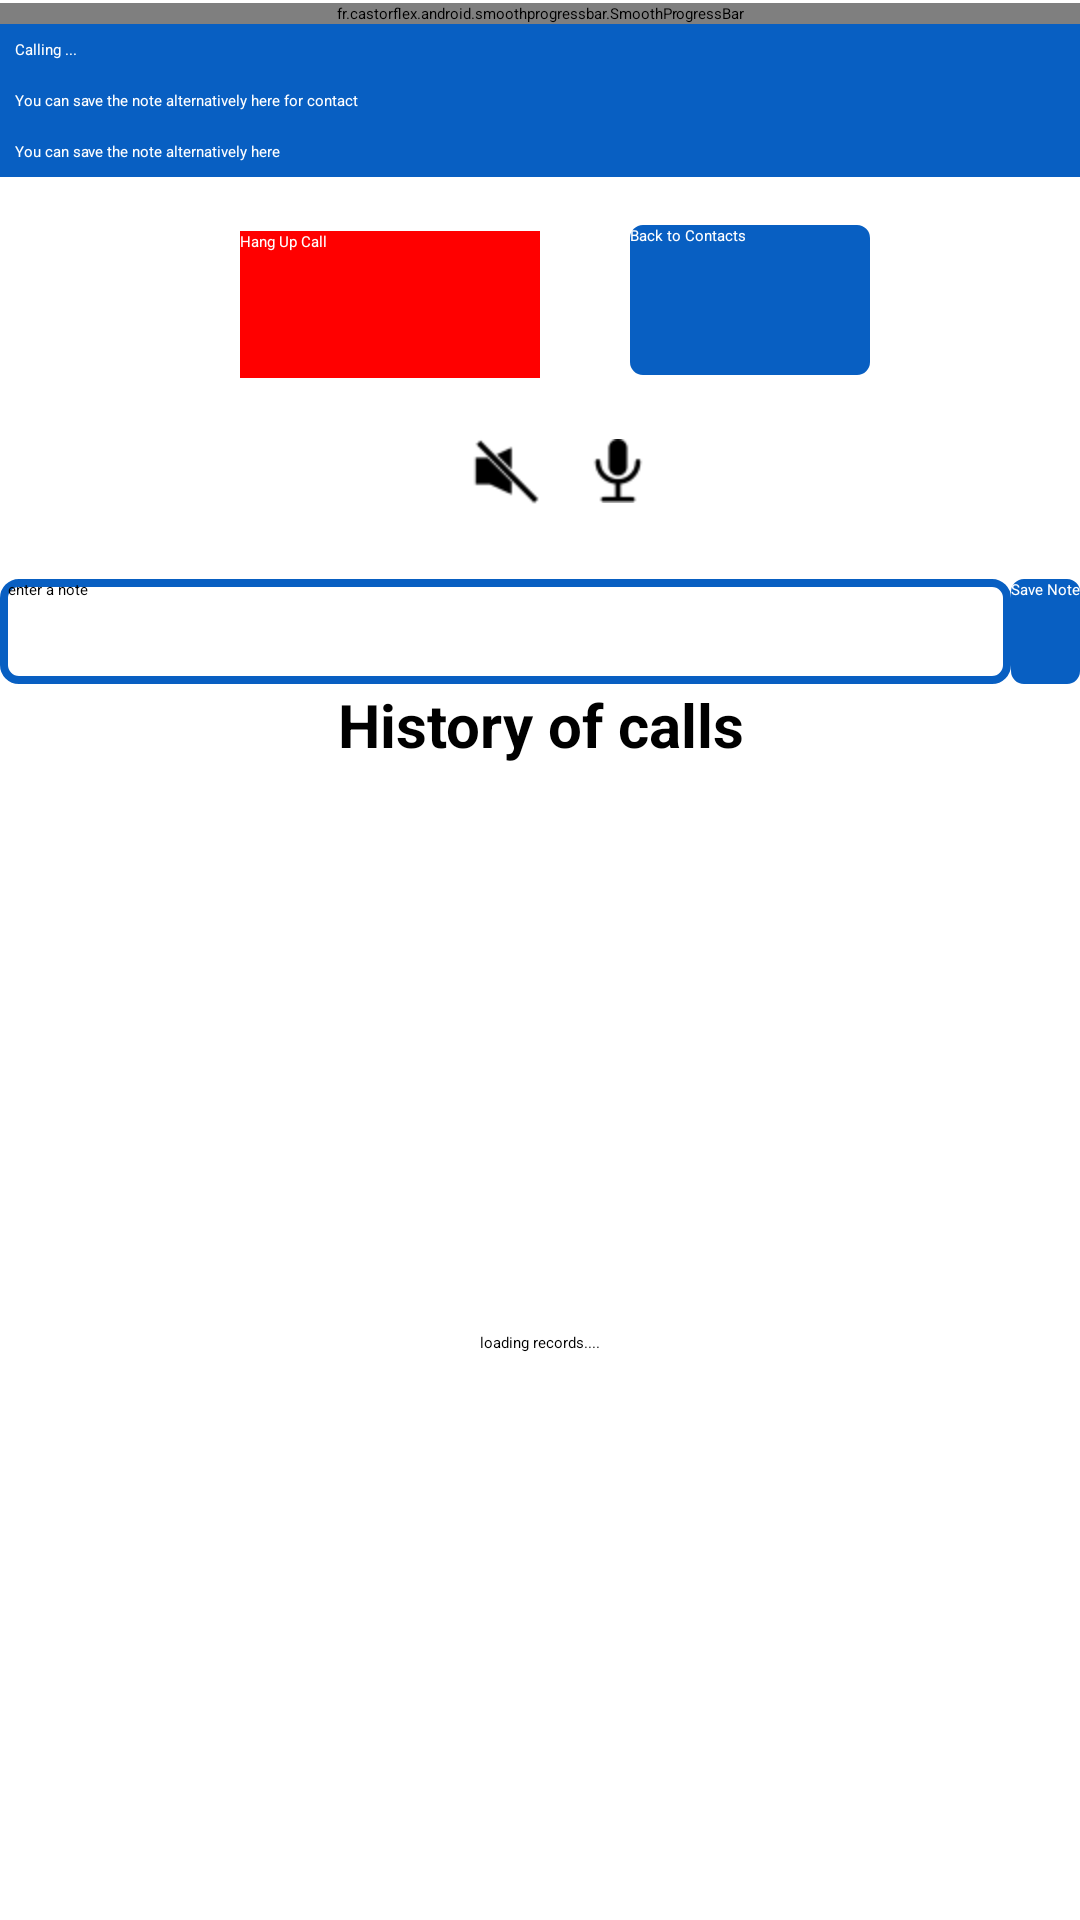

Icon click points for this 1080x1920 phone screenshot, format [x,y]:
mute calls: [506,472]
